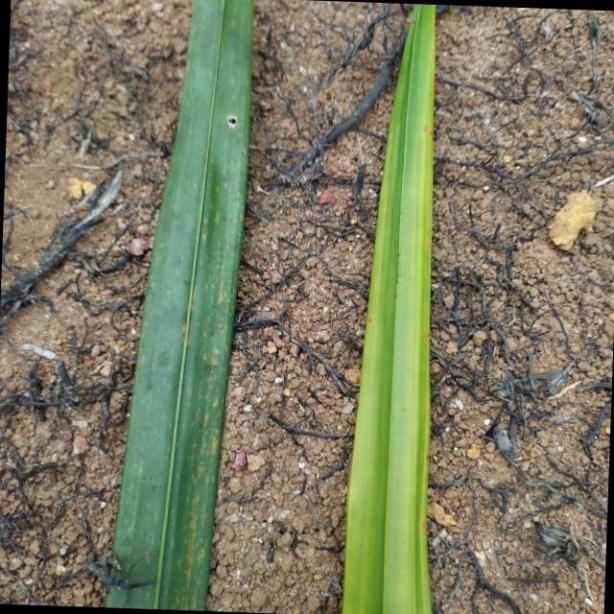nitrogen: (339, 0, 438, 614)
